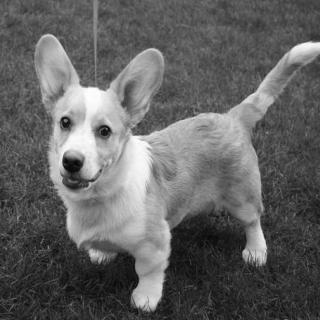dog: (29, 24, 164, 209)
nose: (58, 146, 88, 176)
